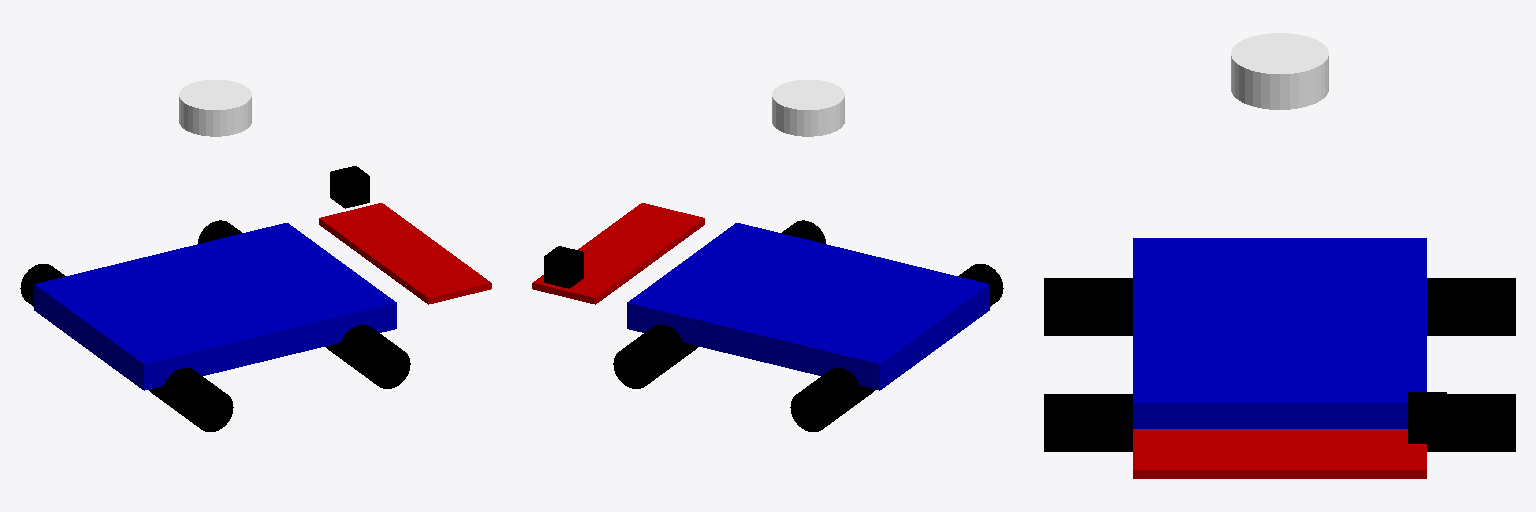
robot.urdf — four_wheeled_bot:
<?xml version="1.0"?>
<robot name="four_wheeled_bot">
  <!-- Colors for visualization -->
  <material name="blue">
    <color rgba="0 0 0.8 1"/>
  </material>
  <material name="black">
    <color rgba="0 0 0 1"/>
  </material>
  <material name="white">
    <color rgba="1 1 1 1"/>
  </material>
  <material name="red">
    <color rgba="0.8 0 0 1"/>
  </material>
  
  <!-- Base Chassis -->
  <link name="base_link">
    <visual>
      <geometry>
        <box size="0.20 0.15 0.02"/> <!-- 20cm x 15cm plate with 2cm thickness -->
      </geometry>
      <material name="blue"/>
      <origin xyz="0 0 0" rpy="0 0 0"/>
    </visual>
    <collision>
      <geometry>
        <box size="0.20 0.15 0.02"/>
      </geometry>
      <origin xyz="0 0 0" rpy="0 0 0"/>
    </collision>
    <inertial>
      <mass value="1.0"/>
      <inertia ixx="0.015" ixy="0" ixz="0" iyy="0.0125" iyz="0" izz="0.0267"/>
      <origin xyz="0 0 0" rpy="0 0 0"/>
    </inertial>
  </link>

  <!-- Right Wheels -->
  <!-- Front Right Wheel -->
  <link name="front_right_wheel">
    <visual>
      <geometry>
        <cylinder length="0.07" radius="0.015"/> <!-- 3cm diameter (1.5cm radius) and 7cm thickness -->
      </geometry>
      <material name="black"/>
      <origin xyz="0 0 0" rpy="1.5708 0 0"/> <!-- Rotated to align with wheel orientation -->
    </visual>
    <collision>
      <geometry>
        <cylinder length="0.07" radius="0.015"/>
      </geometry>
      <origin xyz="0 0 0" rpy="1.5708 0 0"/>
    </collision>
    <inertial>
      <mass value="0.5"/>
      <inertia ixx="0.0001" ixy="0" ixz="0" iyy="0.0001" iyz="0" izz="0.0001"/>
      <origin xyz="0 0 0" rpy="1.5708 0 0"/>
    </inertial>
  </link>

  <joint name="front_right_wheel_joint" type="continuous">
    <parent link="base_link"/>
    <child link="front_right_wheel"/>
    <origin xyz="0.07 -0.085 -0.015" rpy="0 0 0"/> <!-- Position wheel at the right front corner -->
    <axis xyz="0 1 0"/> <!-- Rotate around Y axis -->
  </joint>

  <!-- Rear Right Wheel -->
  <link name="rear_right_wheel">
    <visual>
      <geometry>
        <cylinder length="0.07" radius="0.015"/>
      </geometry>
      <material name="black"/>
      <origin xyz="0 0 0" rpy="1.5708 0 0"/>
    </visual>
    <collision>
      <geometry>
        <cylinder length="0.07" radius="0.015"/>
      </geometry>
      <origin xyz="0 0 0" rpy="1.5708 0 0"/>
    </collision>
    <inertial>
      <mass value="0.5"/>
      <inertia ixx="0.0001" ixy="0" ixz="0" iyy="0.0001" iyz="0" izz="0.0001"/>
      <origin xyz="0 0 0" rpy="1.5708 0 0"/>
    </inertial>
  </link>

  <joint name="rear_right_wheel_joint" type="continuous">
    <parent link="base_link"/>
    <child link="rear_right_wheel"/>
    <origin xyz="-0.07 -0.085 -0.015" rpy="0 0 0"/> <!-- Position wheel at the right rear corner -->
    <axis xyz="0 1 0"/> <!-- Rotate around Y axis -->
    <mimic joint="front_right_wheel_joint" multiplier="1" offset="0"/> <!-- This wheel moves with the front right wheel -->
  </joint>

  <!-- Left Wheels -->
  <!-- Front Left Wheel -->
  <link name="front_left_wheel">
    <visual>
      <geometry>
        <cylinder length="0.07" radius="0.015"/>
      </geometry>
      <material name="black"/>
      <origin xyz="0 0 0" rpy="1.5708 0 0"/>
    </visual>
    <collision>
      <geometry>
        <cylinder length="0.07" radius="0.015"/>
      </geometry>
      <origin xyz="0 0 0" rpy="1.5708 0 0"/>
    </collision>
    <inertial>
      <mass value="0.5"/>
      <inertia ixx="0.0001" ixy="0" ixz="0" iyy="0.0001" iyz="0" izz="0.0001"/>
      <origin xyz="0 0 0" rpy="1.5708 0 0"/>
    </inertial>
  </link>

  <joint name="front_left_wheel_joint" type="continuous">
    <parent link="base_link"/>
    <child link="front_left_wheel"/>
    <origin xyz="0.07 0.085 -0.015" rpy="0 0 0"/> <!-- Position wheel at the left front corner -->
    <axis xyz="0 1 0"/> <!-- Rotate around Y axis -->
  </joint>

  <!-- Rear Left Wheel -->
  <link name="rear_left_wheel">
    <visual>
      <geometry>
        <cylinder length="0.07" radius="0.015"/>
      </geometry>
     <material name="black"/>
      <origin xyz="0 0 0" rpy="1.5708 0 0"/>
    </visual>
    <collision>
      <geometry>
        <cylinder length="0.07" radius="0.015"/>
      </geometry>
      <origin xyz="0 0 0" rpy="1.5708 0 0"/>
    </collision>
    <inertial>
      <mass value="0.5"/>
      <inertia ixx="0.0001" ixy="0" ixz="0" iyy="0.0001" iyz="0" izz="0.0001"/>
      <origin xyz="0 0 0" rpy="1.5708 0 0"/>
    </inertial>
  </link>

  <joint name="rear_left_wheel_joint" type="continuous">
    <parent link="base_link"/>
    <child link="rear_left_wheel"/>
    <origin xyz="-0.07 0.085 -0.015" rpy="0 0 0"/> <!-- Position wheel at the left rear corner -->
    <axis xyz="0 1 0"/> <!-- Rotate around Y axis -->
    <mimic joint="front_left_wheel_joint" multiplier="1" offset="0"/> <!-- This wheel moves with the front left wheel -->
  </joint>

  <!-- Movable Ramp at Front -->
  <link name="front_ramp">
    <visual>
      <geometry>
        <box size="0.05 0.15 0.005"/> <!-- Small ramp at the front -->
      </geometry>
      <material name="red"/>
      <origin xyz="0.025 0 0" rpy="0 0 0"/> <!-- Center of the ramp -->
    </visual>
    <collision>
      <geometry>
        <box size="0.05 0.15 0.005"/>
      </geometry>
      <origin xyz="0.025 0 0" rpy="0 0 0"/>
    </collision>
    <inertial>
      <mass value="0.2"/>
      <inertia ixx="0.0001" ixy="0" ixz="0" iyy="0.0001" iyz="0" izz="0.0001"/>
      <origin xyz="0.025 0 0" rpy="0 0 0"/>
    </inertial>
  </link>

  <joint name="ramp_joint" type="revolute">
    <parent link="base_link"/>
    <child link="front_ramp"/>
    <origin xyz="0.125 0 0.005" rpy="0 0 0"/> <!-- Position at the front edge of the chassis -->
    <axis xyz="0 1 0"/> <!-- Rotate around Y axis for up/down motion -->
    <limit lower="-0.8" upper="0.8" effort="10" velocity="1"/> <!-- Limit ramp movement to about 45 degrees up/down -->
  </joint>

  <!-- LiDAR Frame -->
  <link name="lidar_frame">
    <visual>
      <geometry>
        <cylinder length="0.02" radius="0.025"/> <!-- Small cylinder to represent the LiDAR -->
      </geometry>
      <material name="white"/>
    </visual>
    <collision>
      <geometry>
        <cylinder length="0.02" radius="0.025"/>
      </geometry>
    </collision>
    <inertial>
      <mass value="0.1"/>
      <inertia ixx="0.0001" ixy="0" ixz="0" iyy="0.0001" iyz="0" izz="0.0001"/>
    </inertial>
  </link>

  <joint name="lidar_joint" type="fixed">
    <parent link="base_link"/>
    <child link="lidar_frame"/>
    <origin xyz="0 0 0.15" rpy="0 0 0"/> <!-- 15cm above center of chassis -->
  </joint>

  <!-- Camera Frame -->
  <link name="camera_frame">
    <visual>
      <geometry>
        <box size="0.02 0.02 0.02"/> <!-- Small box to represent the camera -->
      </geometry>
      <material name="black"/>
    </visual>
    <collision>
      <geometry>
        <box size="0.02 0.02 0.02"/>
      </geometry>
    </collision>
    <inertial>
      <mass value="0.05"/>
      <inertia ixx="0.0001" ixy="0" ixz="0" iyy="0.0001" iyz="0" izz="0.0001"/>
    </inertial>
  </link>

  <joint name="camera_joint" type="fixed">
    <parent link="front_ramp"/>
    <child link="camera_frame"/>
    <origin xyz="0.025 0.075 0.02" rpy="0 0 0"/> <!-- At the edge of the ramp, slightly elevated -->
  </joint>
</robot> 

--- Facts derived from the render (not from the file) ---
Views: 3 orthographic renders of the robot side by side, from view 1: azimuth 30°, elevation 25°; view 2: azimuth 150°, elevation 25°; view 3: azimuth 270°, elevation 25°.
Model four_wheeled_bot with 8 links and 7 joints (1 revolute, 4 continuous, 2 fixed), rooted at base_link, posed every joint at zero.
Links seen in each view (by area): view 1: base_link, front_ramp, lidar_frame, rear_right_wheel, front_right_wheel, camera_frame, rear_left_wheel, front_left_wheel; view 2: base_link, front_ramp, lidar_frame, rear_left_wheel, front_left_wheel, camera_frame, rear_right_wheel, front_right_wheel; view 3: base_link, front_ramp, lidar_frame, front_right_wheel, rear_right_wheel, rear_left_wheel, front_left_wheel, camera_frame.
Link boxes in pixels (box(x1,y1,x2,y2)): base_link: box(34, 223, 396, 390); front_ramp: box(319, 203, 491, 304); lidar_frame: box(179, 80, 251, 136); rear_right_wheel: box(149, 368, 233, 431); front_right_wheel: box(325, 325, 410, 388); camera_frame: box(330, 166, 369, 208); rear_left_wheel: box(20, 264, 65, 306); front_left_wheel: box(198, 220, 241, 243); base_link: box(627, 223, 989, 390); front_ramp: box(532, 203, 704, 304); lidar_frame: box(772, 80, 844, 136); rear_left_wheel: box(790, 368, 874, 431); front_left_wheel: box(613, 325, 698, 388); camera_frame: box(544, 246, 583, 288); rear_right_wheel: box(958, 264, 1003, 306); front_right_wheel: box(782, 220, 825, 243); base_link: box(1133, 238, 1426, 428); front_ramp: box(1133, 429, 1426, 478); lidar_frame: box(1231, 33, 1328, 109); front_right_wheel: box(1044, 394, 1132, 451); rear_right_wheel: box(1044, 278, 1132, 335); rear_left_wheel: box(1427, 278, 1515, 335); front_left_wheel: box(1427, 394, 1515, 451); camera_frame: box(1408, 392, 1446, 443).
Bounding box of the posed robot: 0.275 × 0.24 × 0.19 m (x, y, z).
Geometry: primitives only (box / cylinder / sphere), no mesh files.